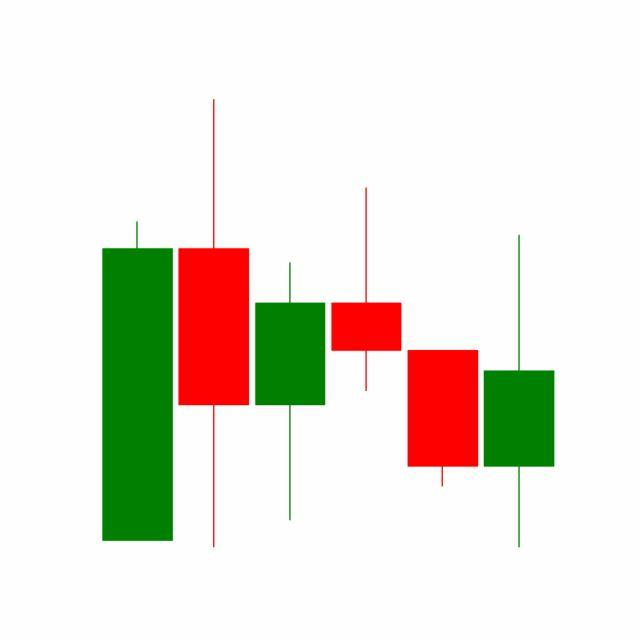Marubozu: (404, 349, 482, 489)
